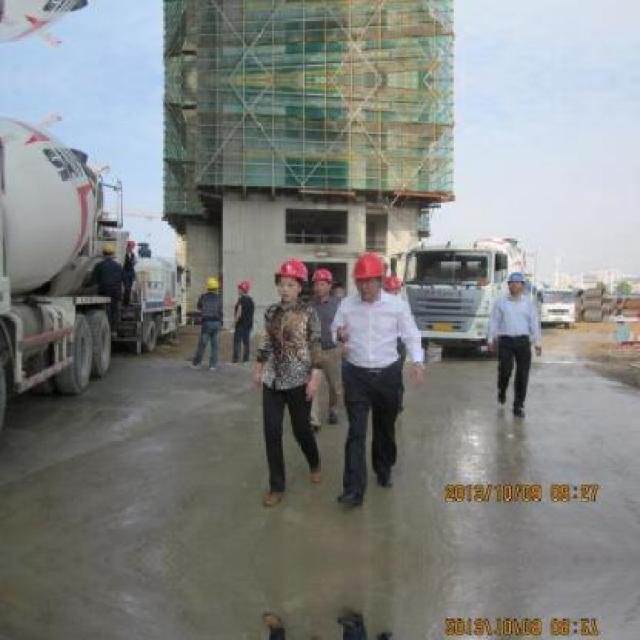hat: (348, 248, 388, 286), (277, 256, 309, 287), (312, 257, 337, 285), (505, 271, 529, 290), (202, 274, 224, 294), (97, 240, 114, 257), (237, 274, 253, 292), (123, 229, 135, 246)
